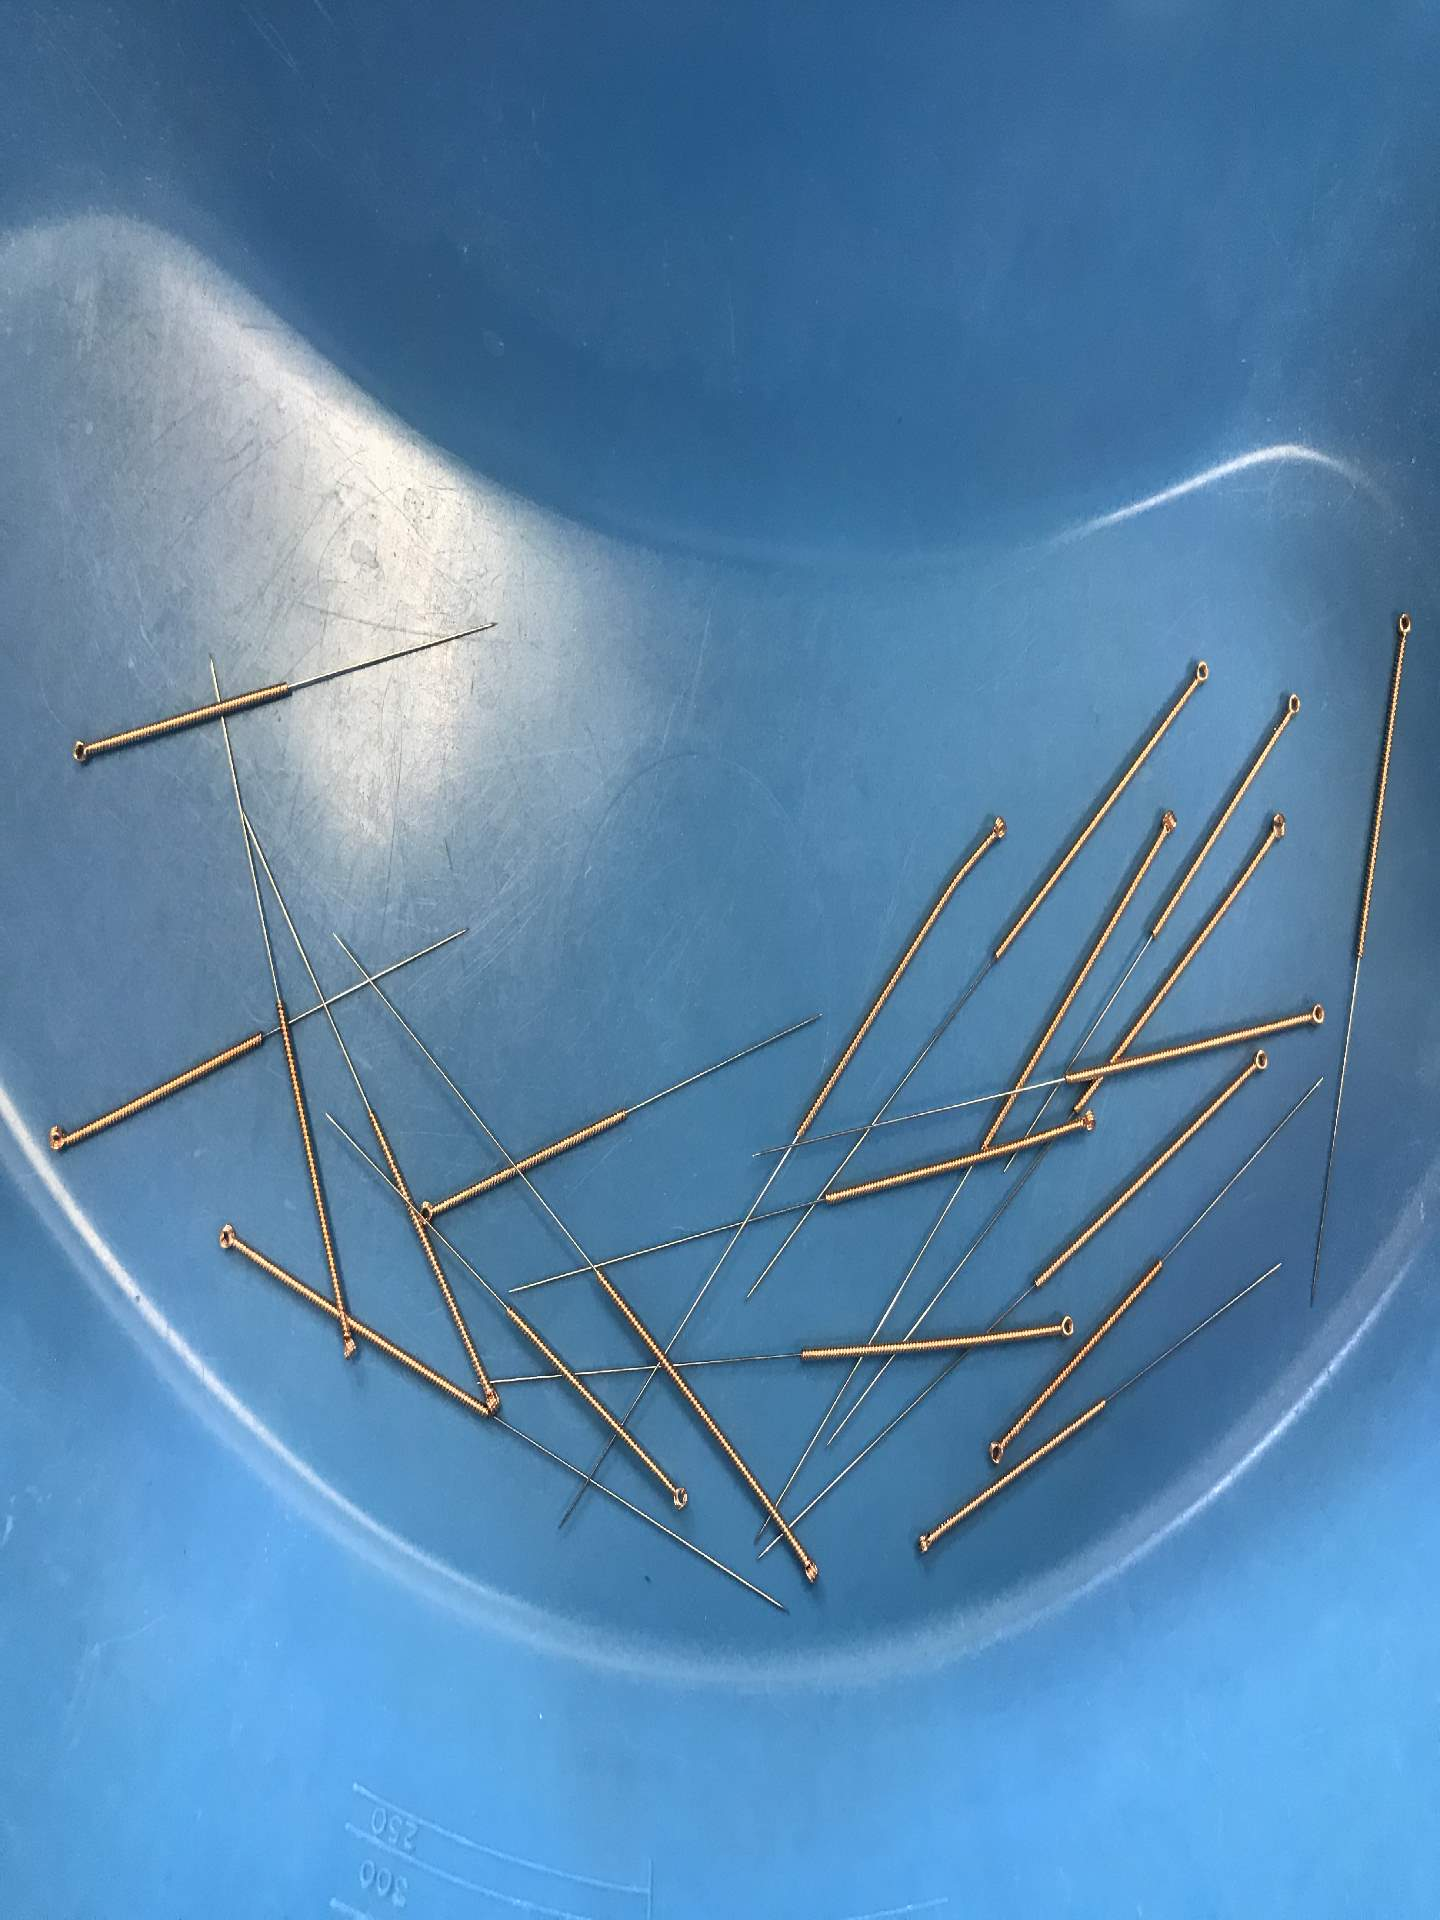needle: (61, 732, 100, 773), (209, 1214, 244, 1259), (1262, 803, 1296, 848), (39, 1116, 74, 1160), (979, 1429, 1013, 1473), (1387, 603, 1420, 649), (1278, 683, 1308, 729), (661, 1476, 694, 1516), (794, 1550, 826, 1592), (982, 807, 1013, 850), (1153, 801, 1184, 844), (1184, 652, 1215, 695), (479, 1376, 510, 1420), (909, 1524, 945, 1560), (333, 1324, 365, 1365), (1048, 1309, 1083, 1346), (417, 1191, 451, 1228), (1299, 998, 1331, 1033), (1243, 1042, 1274, 1078), (1075, 1107, 1104, 1138)
